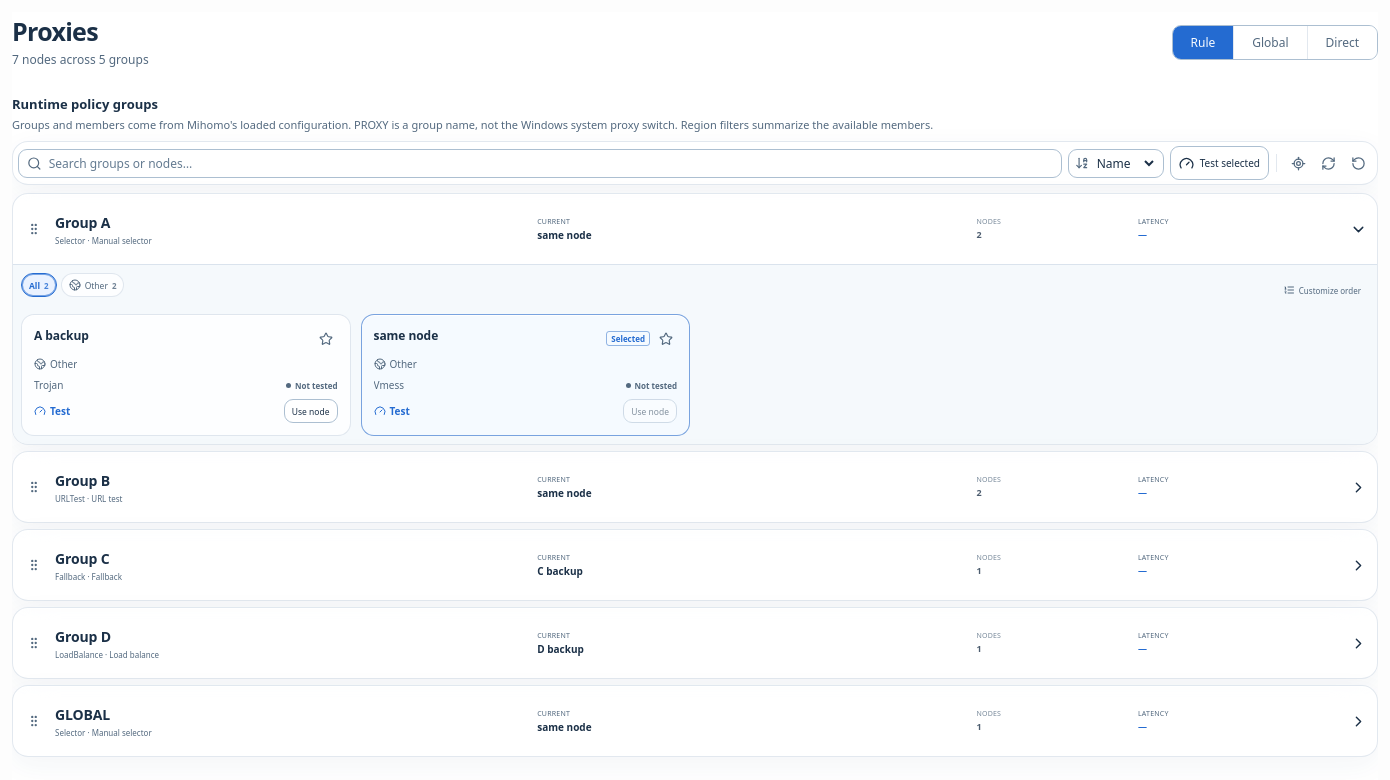
ProxiesPage strategy center › collapses and expands a strategy section without changing group order
The image size is (1390, 780).
Click the button "Group A" at (83, 222), box [13,194,1377,264]
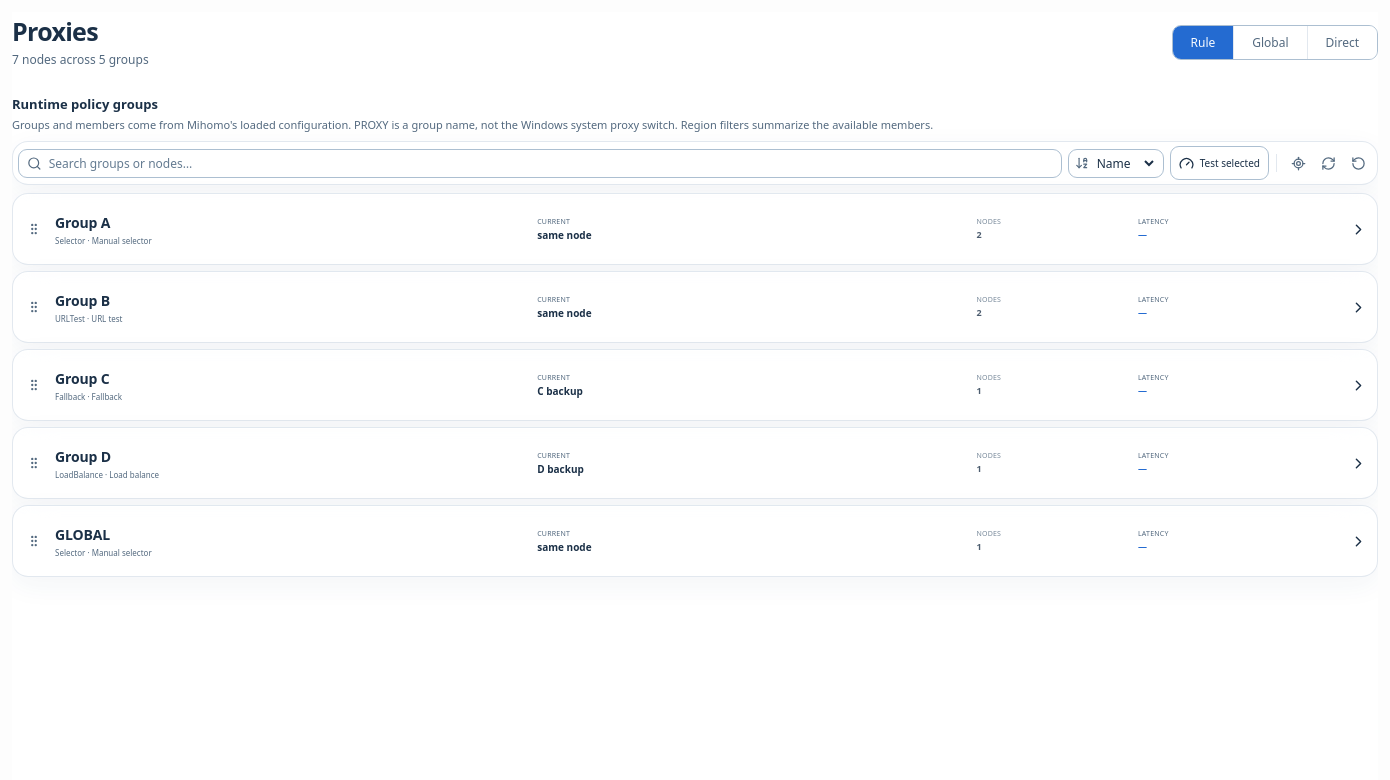
Click the button "Group A" at (83, 222), box [13,194,1377,264]
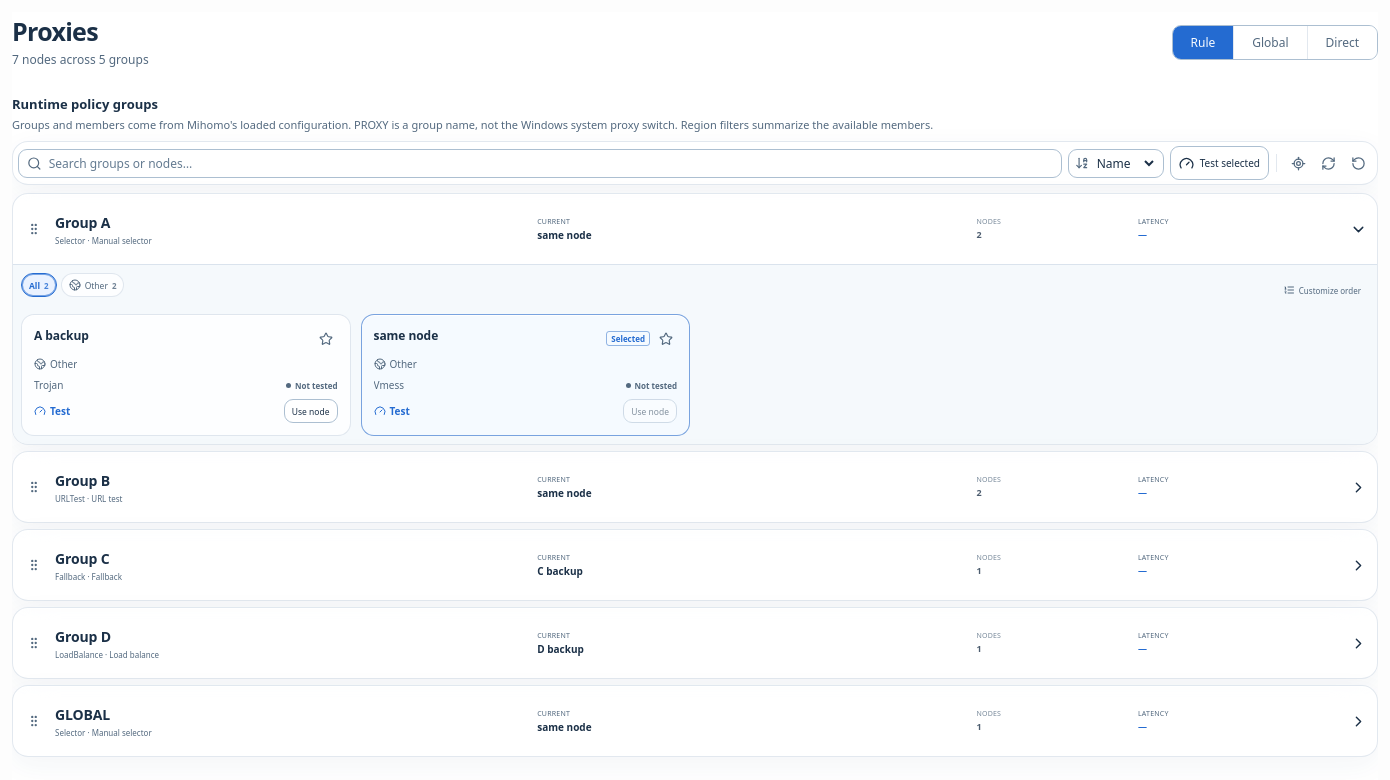
Now the list named "Group A" is shown, box [21,314,690,436]
